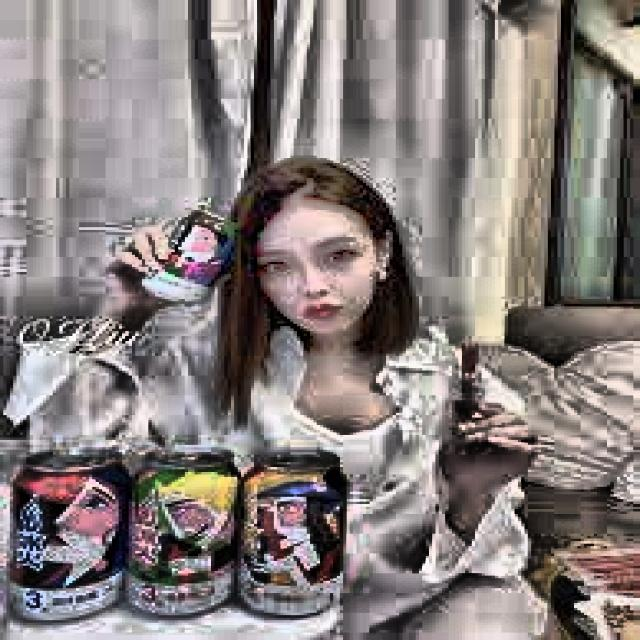can: (5, 444, 126, 628), (232, 448, 358, 619), (121, 441, 242, 618), (134, 192, 245, 316)
